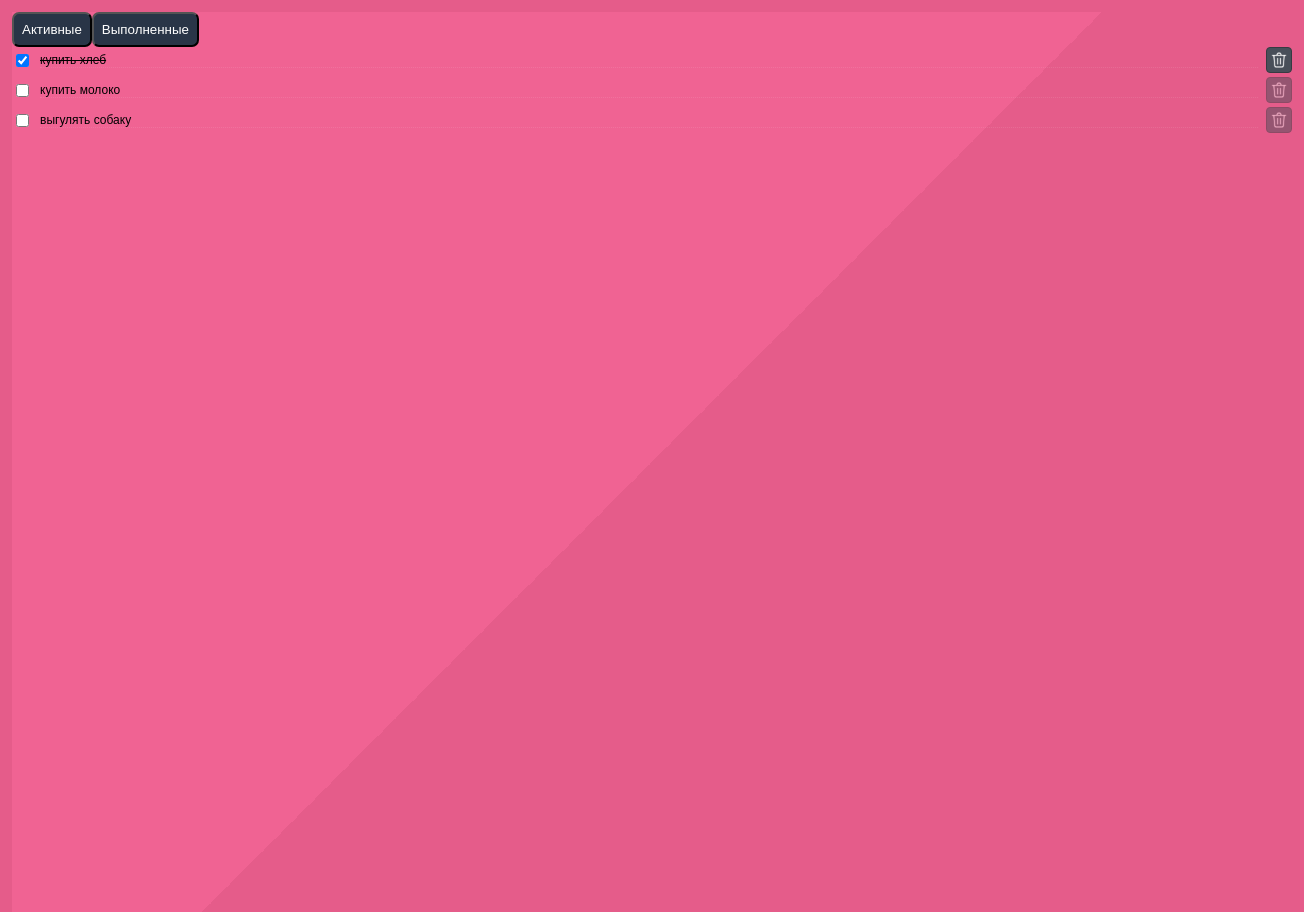
Test: Список задач › с включенным фильтром по активным
Click the button "Активные" at (52, 30), box [12,12,92,47]
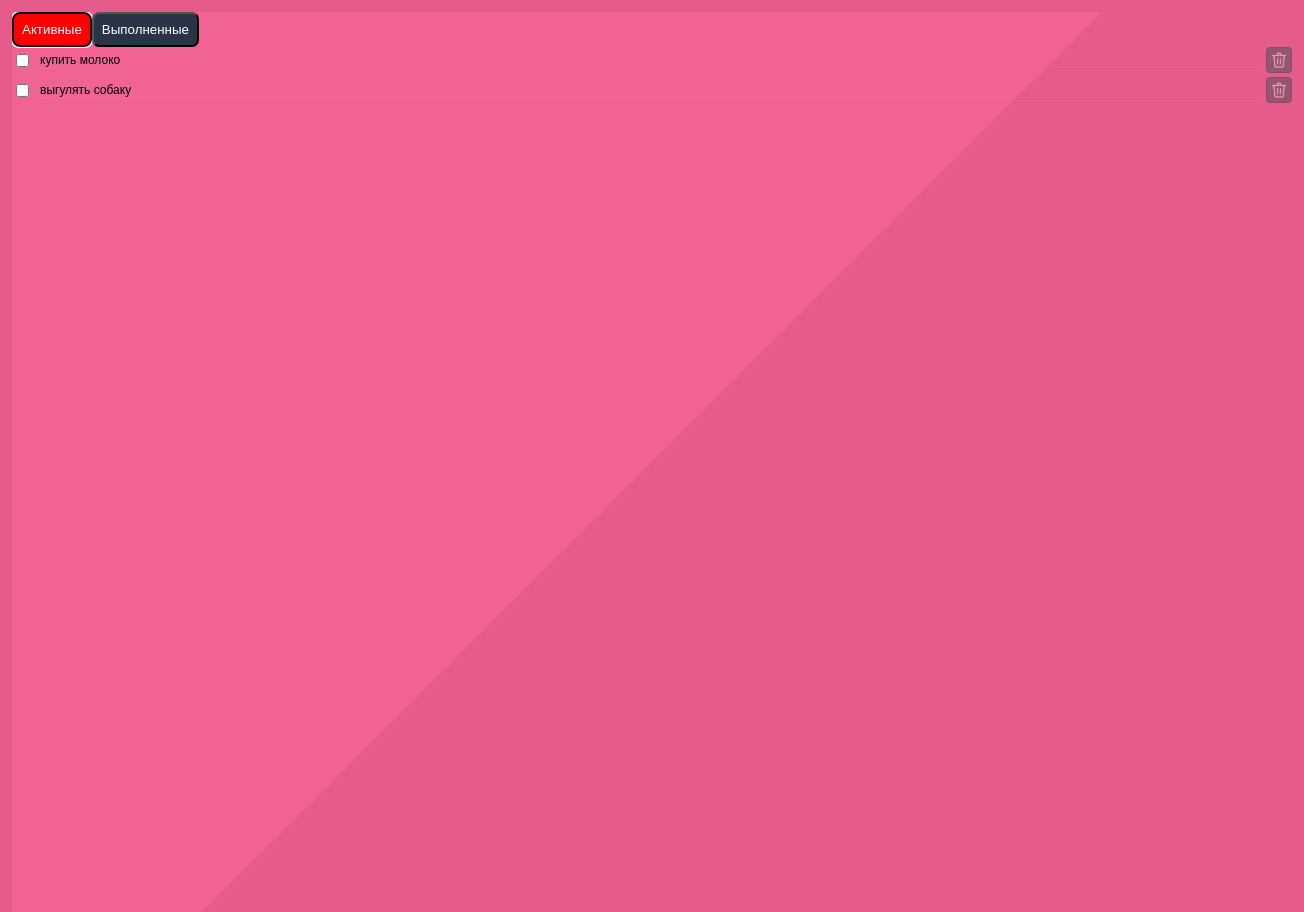
Expected: the number of checkboxes is 2, [16,54,29,66]; [16,84,29,96]
